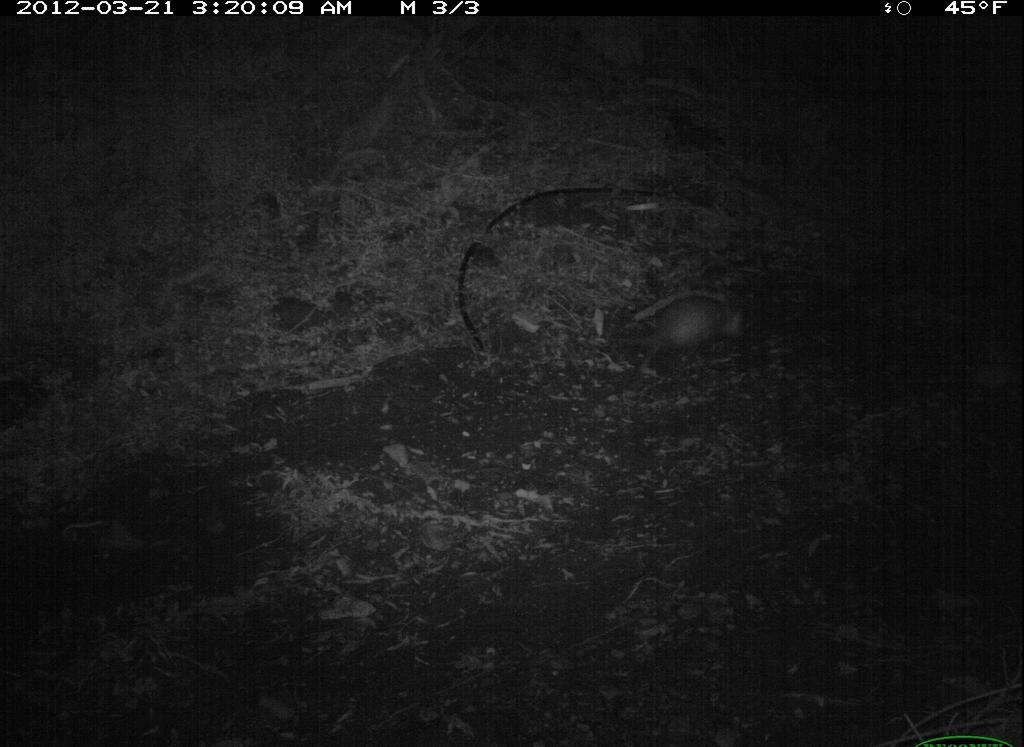opossum: (580, 289, 761, 373)
